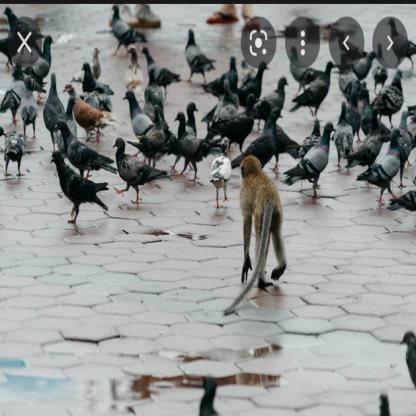monkey: (221, 152, 292, 325)
